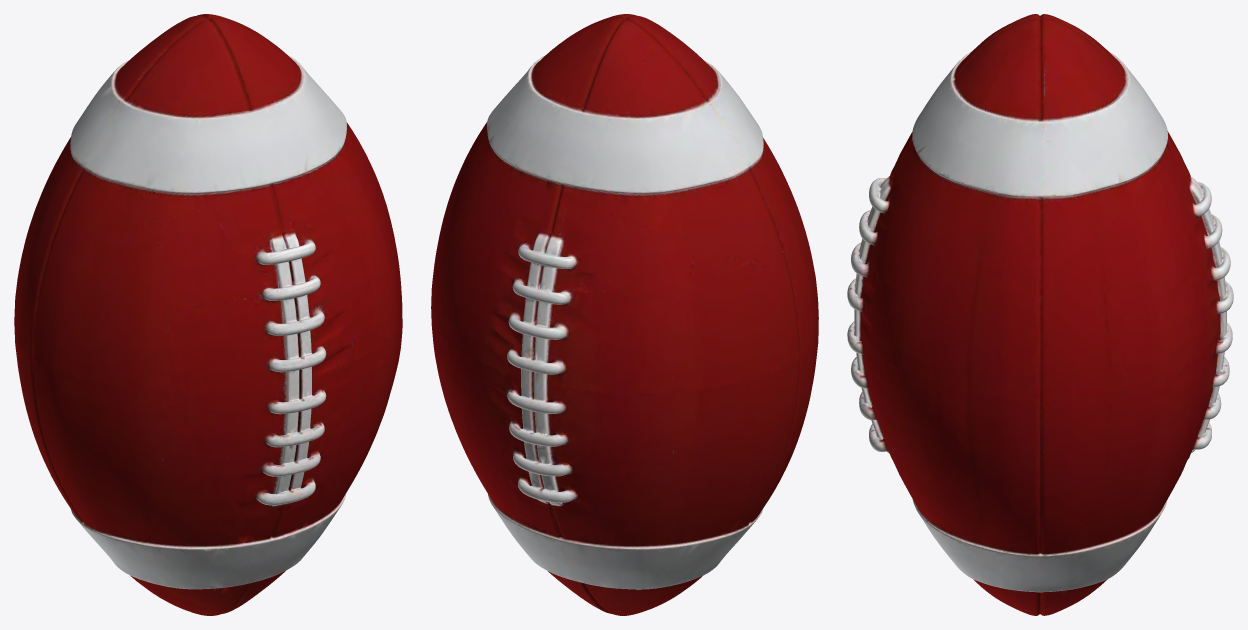
File: Palla da football.glb
3 views of the same model, side by side, from view 1: azimuth 30°, elevation 25°; view 2: azimuth 150°, elevation 25°; view 3: azimuth 270°, elevation 25° (orthographic).
Size of the model in its own units: 1.17 by 1.9 by 1.12.
1 material, 1 textured.
